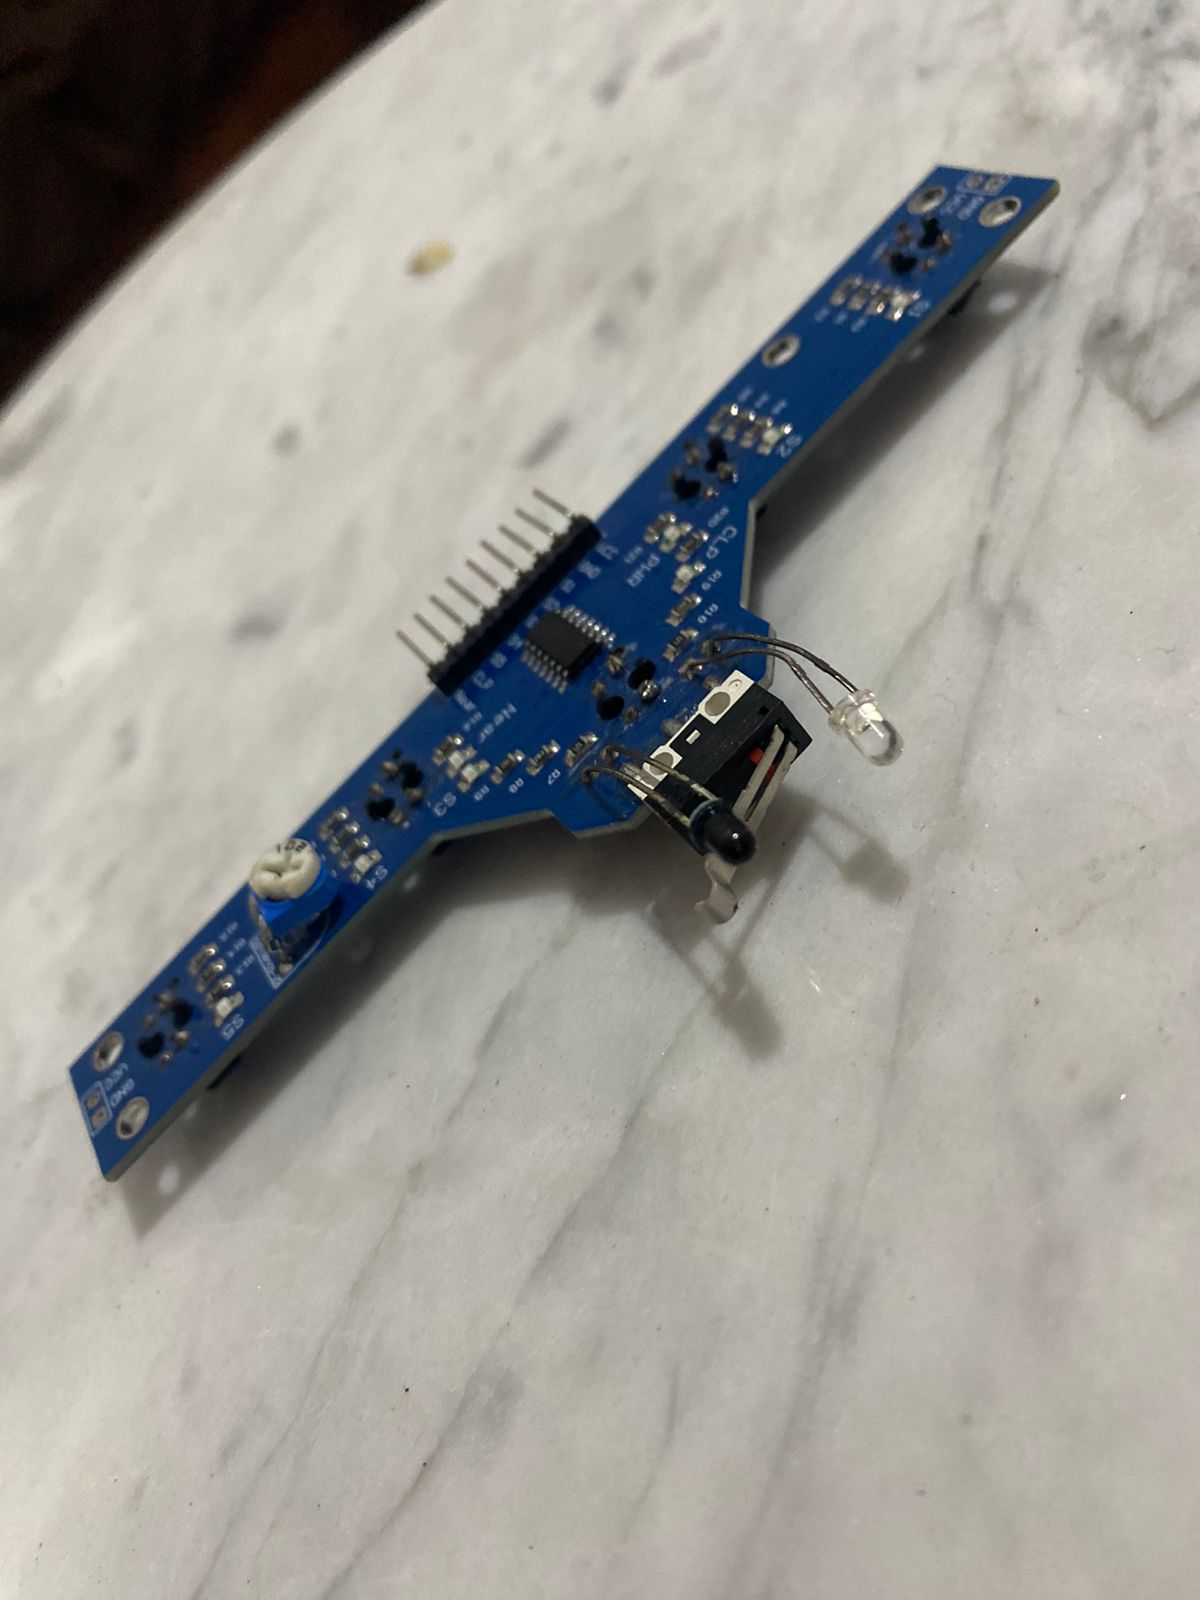Capteur-IR-5 Voies: (68, 142, 1082, 1199)
